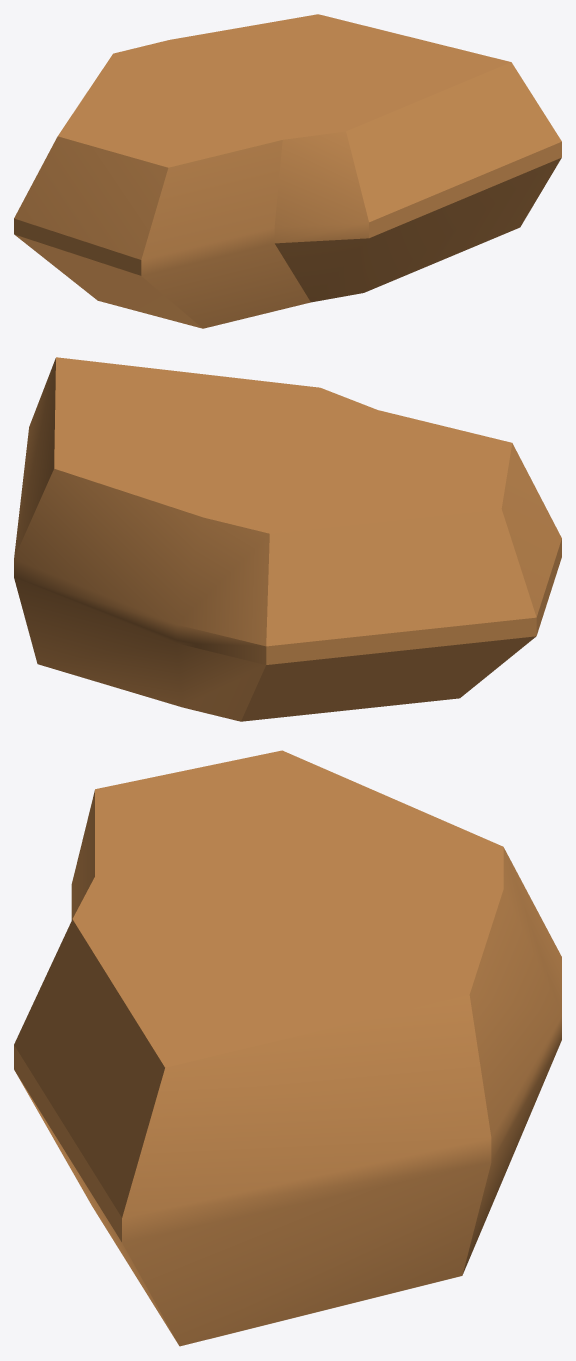
Rendered from Rock_Medium_Flat_Thick_Dirt_01.fbx.
The picture shows the model from 3 angles, top to bottom: view 1: azimuth 30°, elevation 25°; view 2: azimuth 150°, elevation 25°; view 3: azimuth 270°, elevation 25°; orthographic projection. The views are drawn at different scales.
Parts seen in each view (by area): view 1: Model; view 2: Model; view 3: Model.
Boxes of the visible parts, box(x1,y1,x2,y2) form: Model: box(14, 14, 561, 328); Model: box(14, 357, 561, 721); Model: box(14, 750, 561, 1346).
Size of the model in its own units: 880 by 295 by 546.
